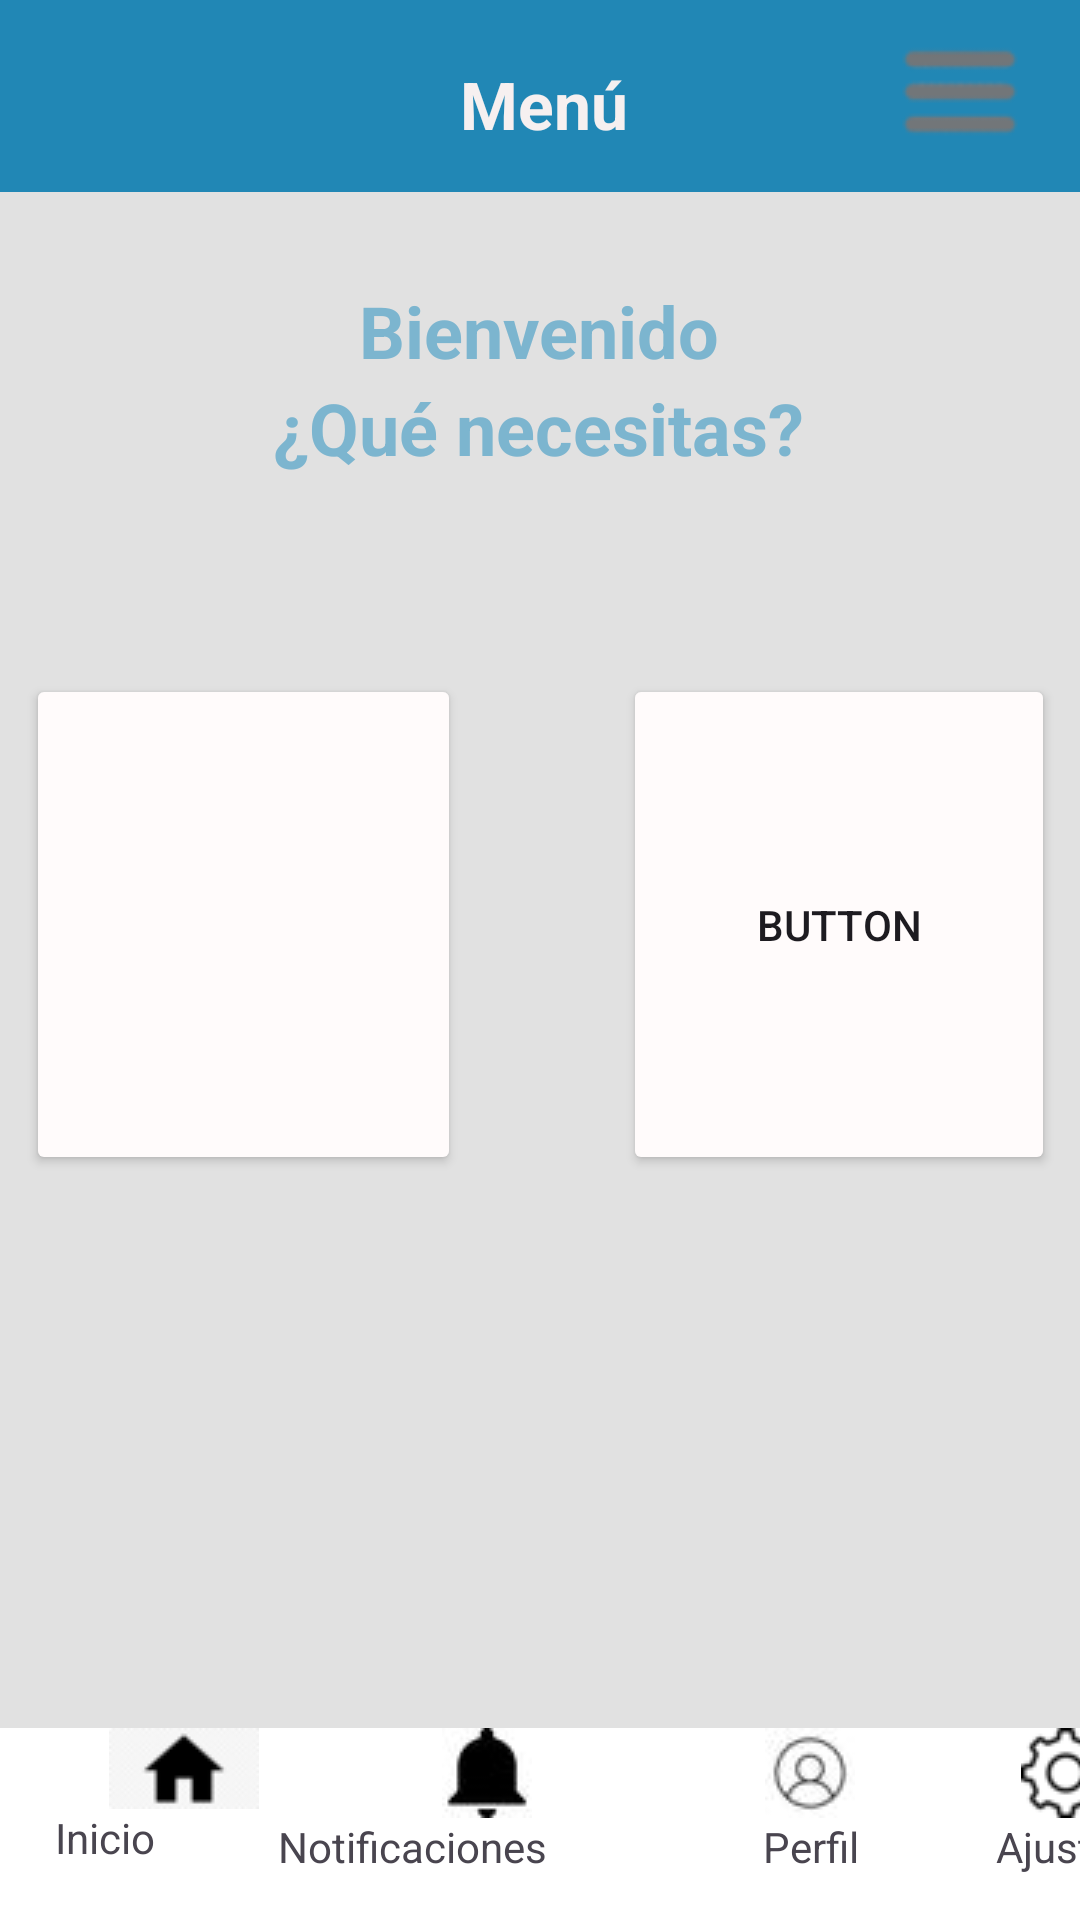

Icon bounding boxes for this 1080w x 1920h phone screenshot, format box=[x1, y1, x2, y2]:
menu: box=[904, 50, 1015, 133]
